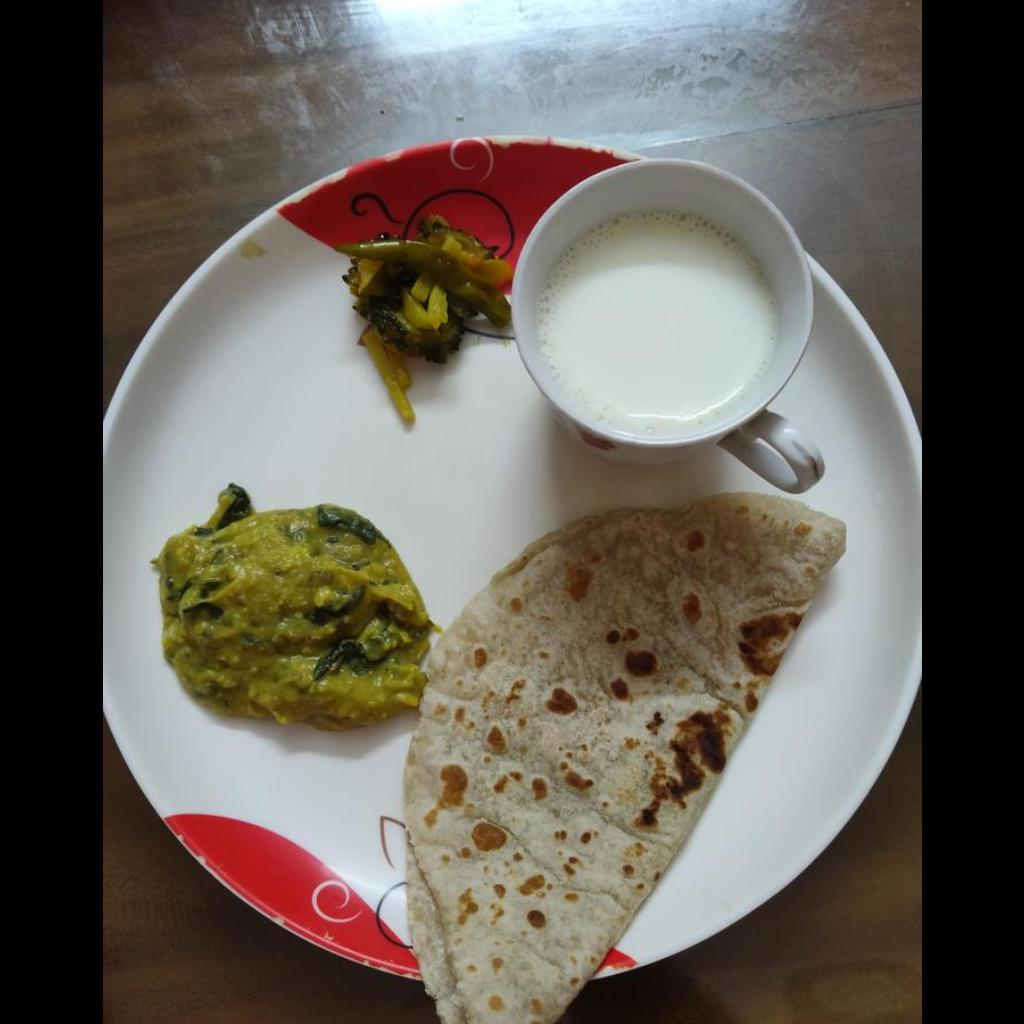milk: (538, 215, 781, 420)
ruti: (406, 495, 845, 1023)
vorta: (158, 497, 430, 725)
